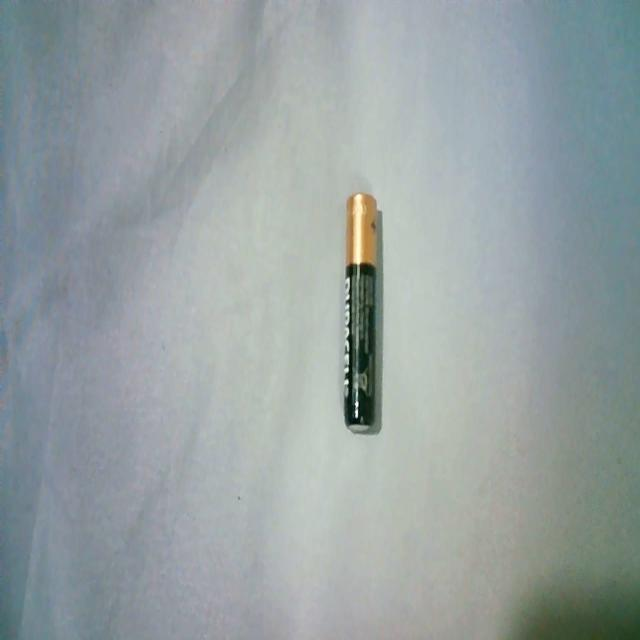AAA: (338, 188, 386, 439)
